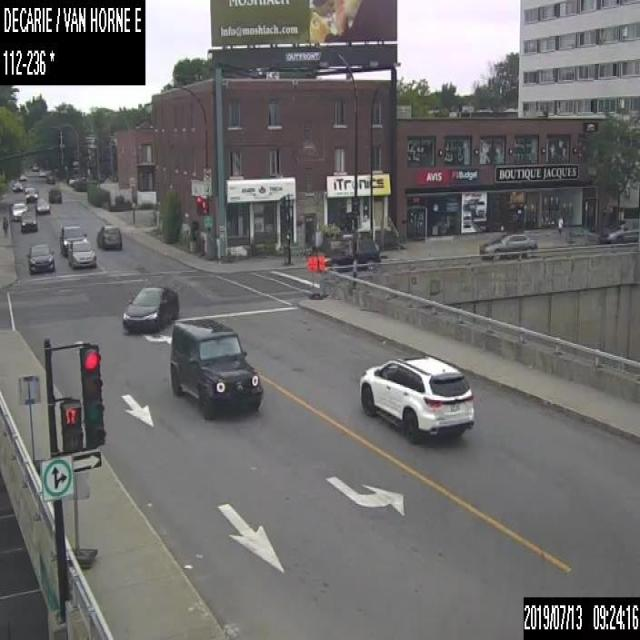construction: (64, 468, 98, 572), (16, 373, 47, 473), (316, 254, 326, 298), (306, 254, 316, 298)
pedestrian: (3, 213, 8, 236)
vehicle: (358, 354, 476, 442), (172, 316, 261, 419), (122, 285, 178, 333), (327, 240, 378, 270), (478, 231, 537, 253), (596, 220, 639, 243), (67, 238, 96, 269), (26, 242, 54, 274), (59, 224, 86, 255), (97, 223, 121, 250), (19, 210, 36, 233), (10, 201, 28, 220), (34, 198, 50, 213), (47, 186, 61, 202), (25, 187, 38, 202), (12, 181, 22, 191), (46, 172, 55, 183), (18, 172, 26, 180), (38, 169, 46, 176), (32, 163, 38, 170)
